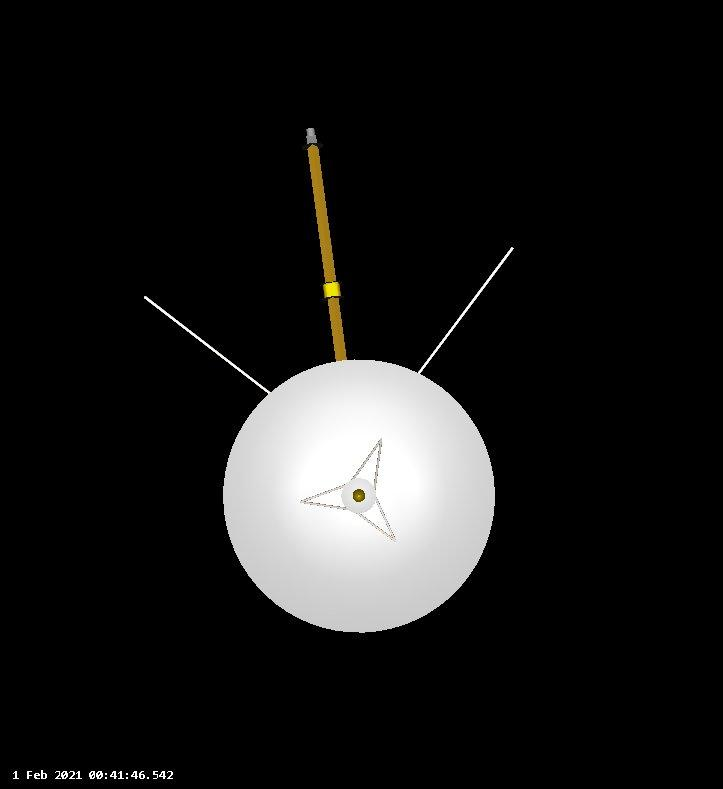antenna: (220, 356, 500, 636), (139, 293, 275, 396), (418, 242, 519, 376), (301, 124, 353, 363)
